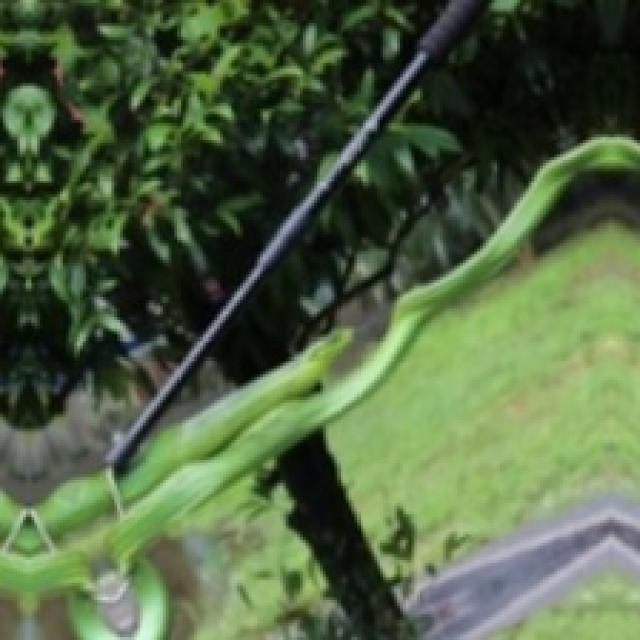red-tailed green ratsnake: (0, 139, 639, 640)
